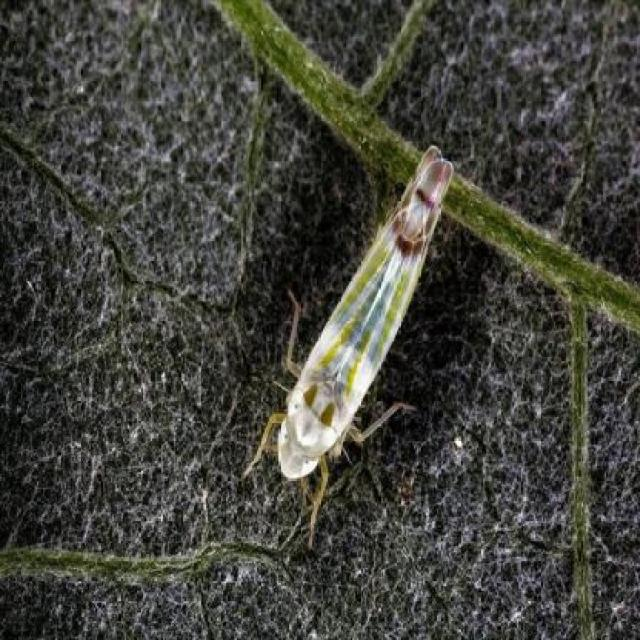green-leafhopper: (243, 142, 454, 539)
